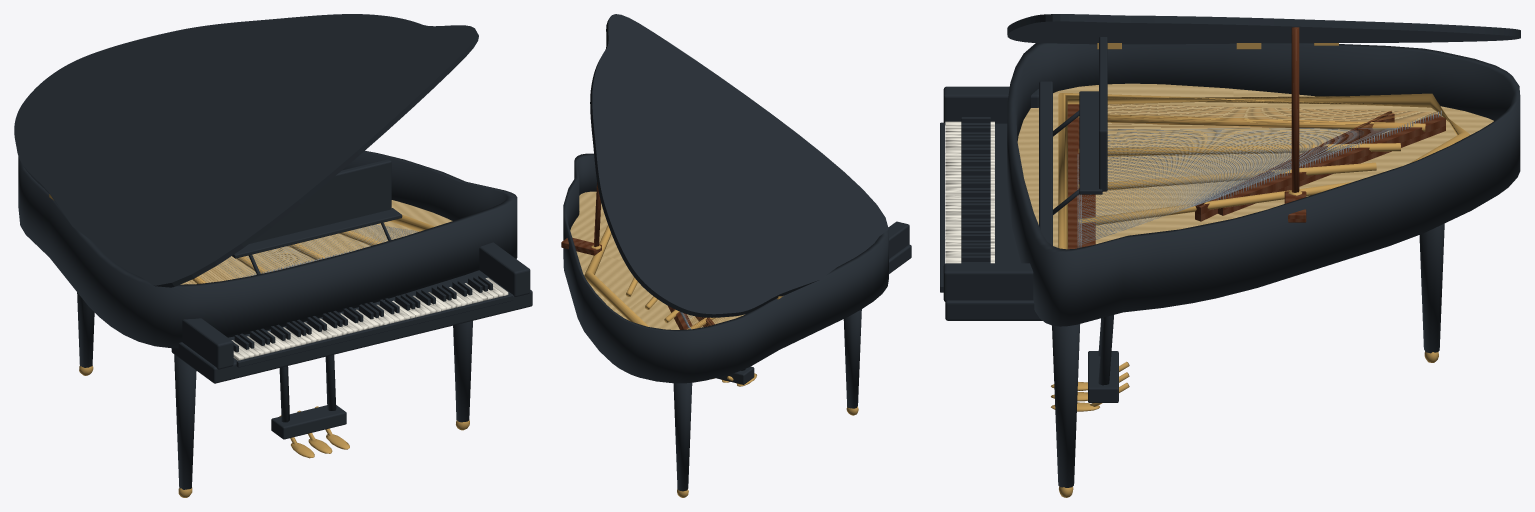
Rendered from piano.glb.
3 renders of one model, left to right at view 1: azimuth 30°, elevation 25°; view 2: azimuth 150°, elevation 25°; view 3: azimuth 270°, elevation 25°, orthographic. The views are drawn at different scales.
Parts seen in each view (by area): view 1: grand-piano — STATIC material batch; view 2: grand-piano — STATIC material batch; view 3: grand-piano — STATIC material batch.
Part boxes in pixels (bbox=[...]): grand-piano — STATIC material batch: bbox=[14, 14, 532, 497]; grand-piano — STATIC material batch: bbox=[561, 14, 911, 497]; grand-piano — STATIC material batch: bbox=[940, 14, 1520, 497].
Bounding box in the file's own units: 1.71 × 1.74 × 1.87.
Materials: 7 (2 with a texture image).
